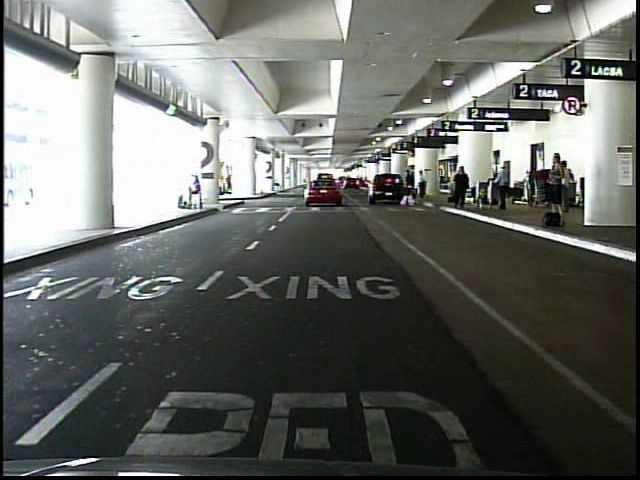person: (547, 151, 570, 214), (556, 162, 572, 212), (454, 166, 470, 210), (189, 173, 206, 214), (498, 164, 511, 212), (401, 168, 417, 207), (456, 165, 467, 203), (419, 169, 429, 200)
